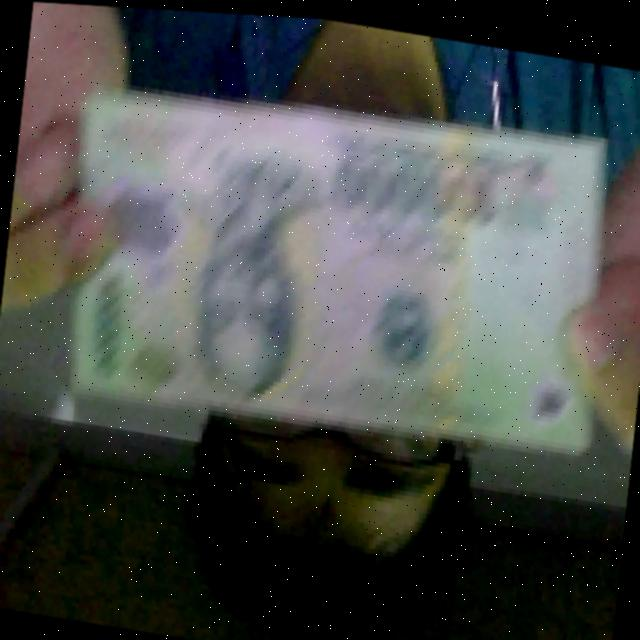100 000 VND: (43, 48, 628, 485)
